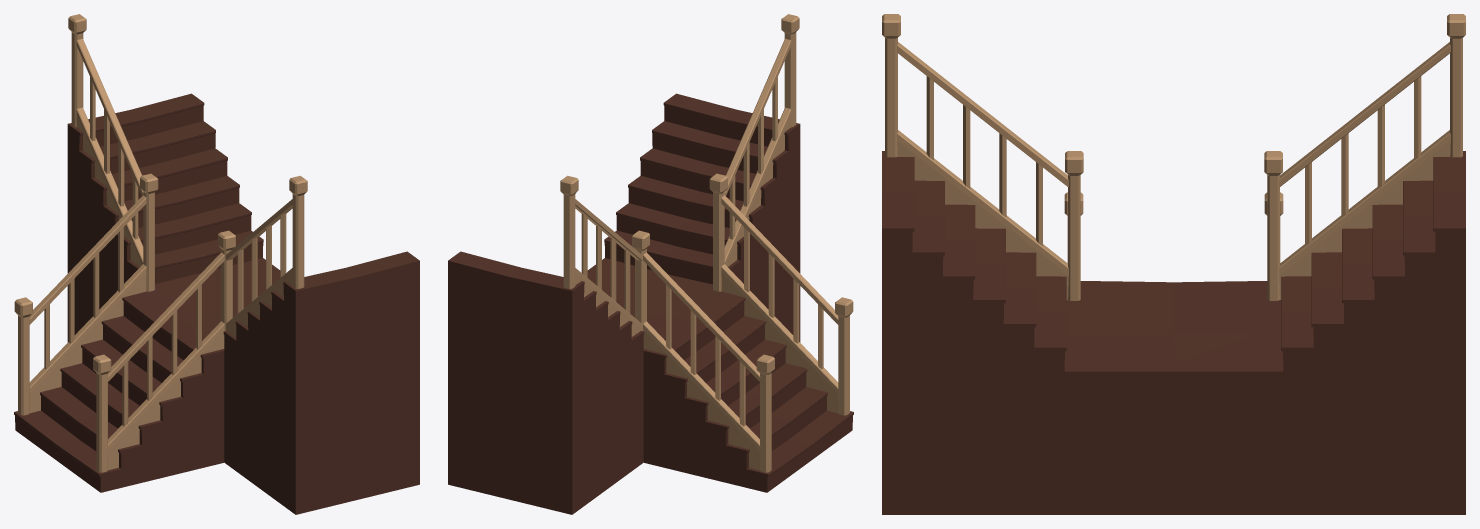
The model's file is big-staircase-a.glb.
3 renders of one model, left to right at view 1: azimuth 30°, elevation 25°; view 2: azimuth 150°, elevation 25°; view 3: azimuth 270°, elevation 25°, orthographic. The views are drawn at different scales.
Parts seen in each view (by area): view 1: Big Staircase A (×2); view 2: Big Staircase A (×2); view 3: Big Staircase A (×2).
Part boxes in pixels (box(x1,y1,x2,y2)): Big Staircase A (×2): box(14, 14, 419, 514); Big Staircase A (×2): box(448, 14, 853, 514); Big Staircase A (×2): box(882, 14, 1465, 514).
Bounding box in the file's own units: 2.56 × 3.26 × 4.06.
